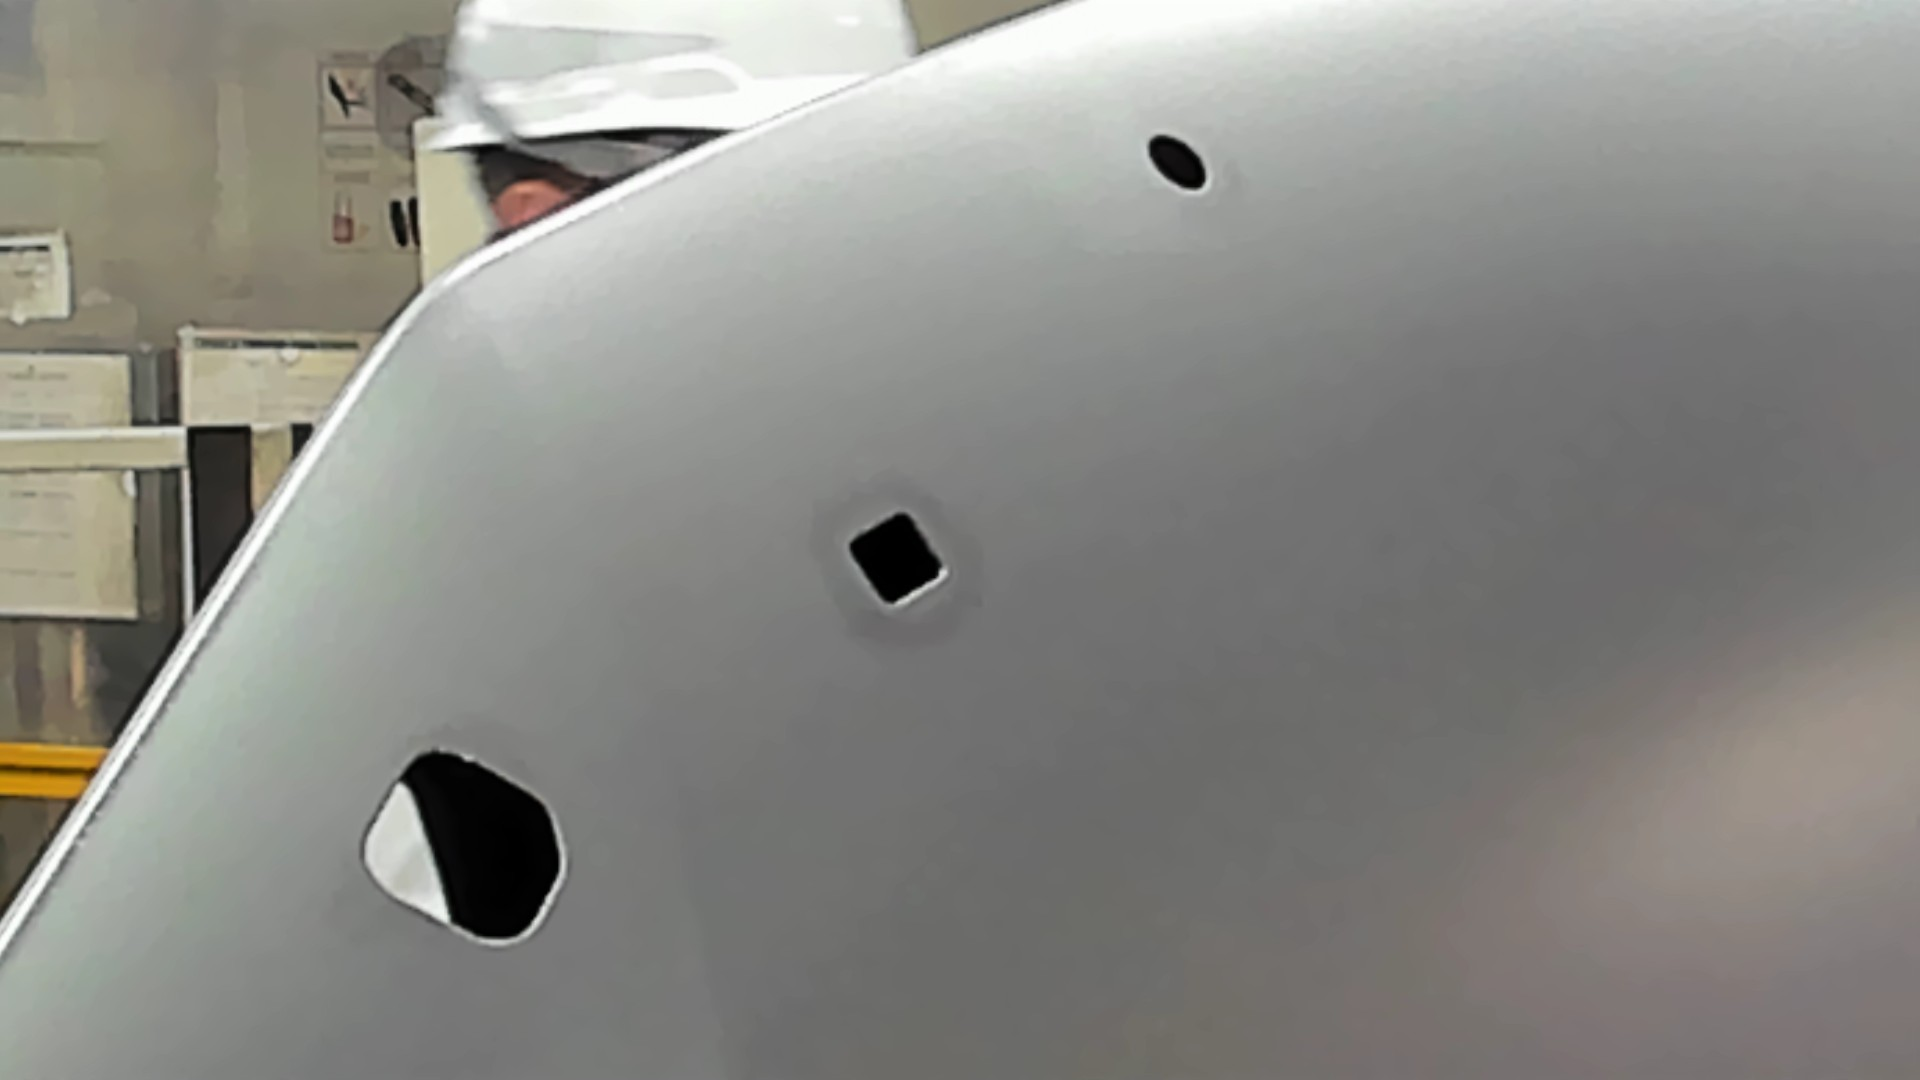chico: (1143, 129, 1211, 195)
grande: (349, 744, 570, 955)
mediano: (837, 505, 952, 617)
